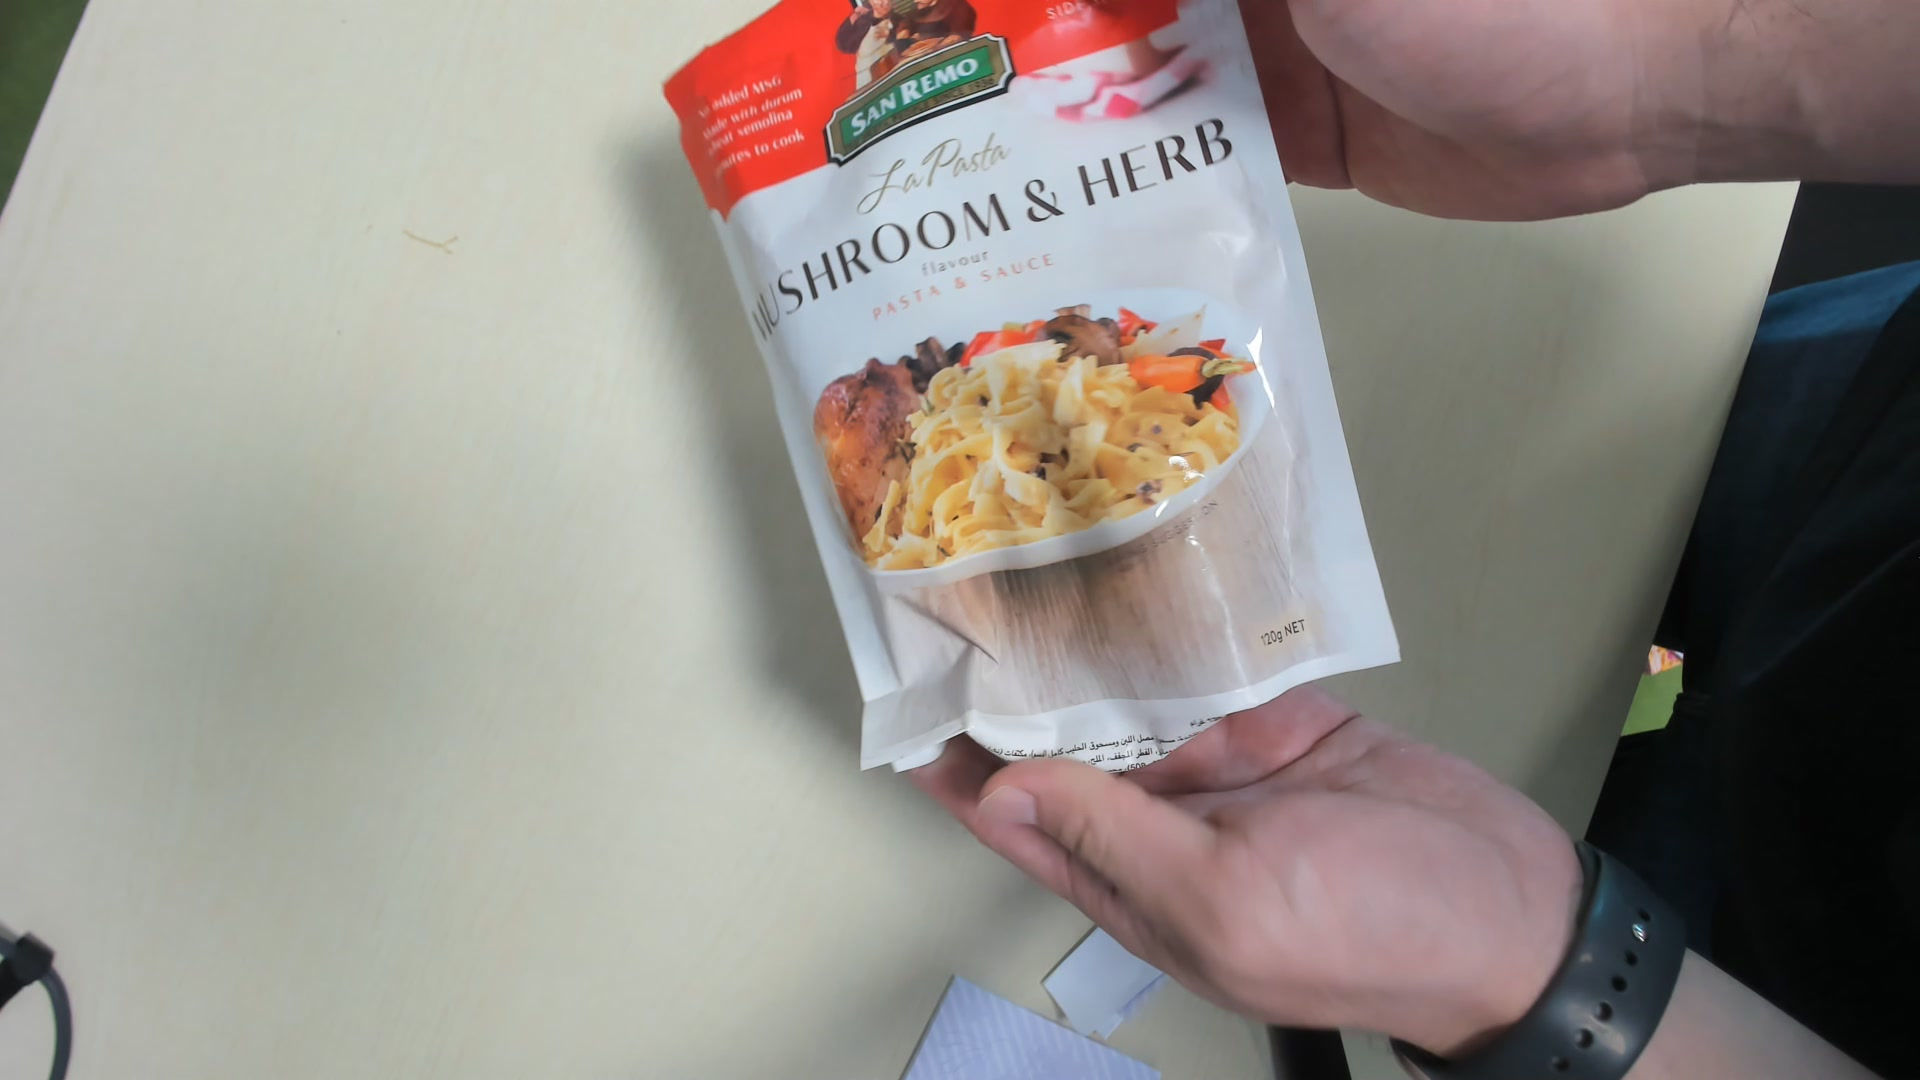InstantMeals_100-199g_NonHalal_Healthy: (655, 3, 1400, 783)
